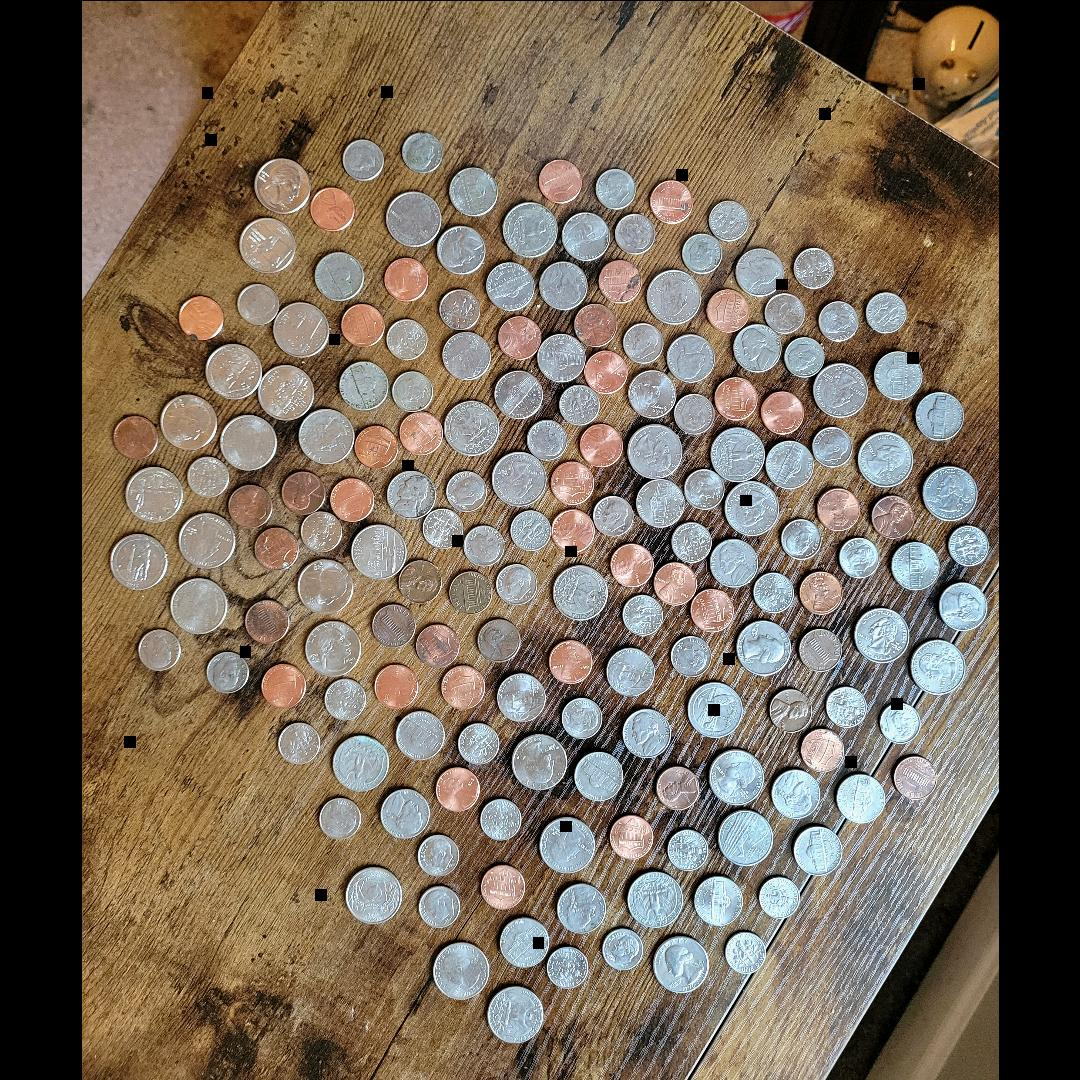Dime: (384, 317, 428, 359), (299, 511, 341, 555), (600, 926, 642, 970), (545, 946, 587, 988), (137, 626, 179, 668), (751, 568, 793, 610), (946, 524, 988, 566), (204, 651, 246, 693), (236, 282, 278, 324), (187, 456, 229, 498), (456, 720, 497, 763), (478, 796, 518, 840), (416, 884, 456, 928), (342, 136, 382, 179), (820, 298, 859, 342), (510, 510, 551, 551), (665, 828, 705, 870), (792, 246, 832, 288), (624, 592, 664, 634), (319, 794, 359, 836), (838, 536, 880, 576), (418, 833, 458, 875), (556, 382, 598, 422), (756, 876, 798, 916), (624, 318, 664, 360), (726, 930, 766, 972), (783, 334, 823, 376), (683, 466, 723, 508), (668, 523, 710, 563), (866, 289, 904, 333), (496, 560, 536, 601), (595, 168, 634, 210), (828, 684, 868, 724), (592, 494, 632, 534), (612, 210, 652, 250), (780, 519, 820, 559), (528, 418, 568, 458), (461, 524, 501, 564), (277, 722, 317, 762), (674, 390, 713, 431), (326, 676, 364, 718), (669, 634, 707, 676), (708, 200, 748, 239), (559, 695, 598, 735), (879, 702, 918, 742), (766, 292, 806, 331), (437, 290, 478, 328), (810, 426, 848, 466), (391, 370, 431, 408), (423, 506, 463, 544), (446, 472, 484, 510), (401, 132, 439, 170), (682, 233, 718, 273)
Nickel: (890, 538, 940, 590), (378, 785, 428, 836), (554, 882, 603, 934), (492, 368, 542, 418), (444, 166, 494, 216), (497, 912, 545, 964), (606, 644, 654, 696), (692, 874, 740, 926), (558, 211, 606, 263), (435, 224, 483, 276), (731, 319, 779, 371), (338, 357, 386, 409), (836, 770, 884, 822), (767, 436, 815, 486), (536, 334, 584, 384), (498, 672, 546, 722), (440, 331, 488, 381), (574, 751, 622, 801), (384, 466, 434, 514), (734, 246, 782, 296), (914, 390, 960, 442), (938, 582, 986, 631), (538, 258, 586, 307), (876, 349, 922, 400), (394, 710, 442, 758), (634, 480, 682, 528), (664, 334, 712, 382), (485, 260, 533, 308), (623, 708, 671, 756), (316, 250, 362, 300), (774, 768, 820, 818), (707, 536, 753, 586), (794, 823, 840, 873), (628, 366, 674, 414), (798, 626, 842, 668)
Penny: (688, 585, 734, 633), (546, 638, 592, 684), (382, 254, 426, 302), (328, 476, 374, 520), (338, 302, 384, 346), (480, 860, 524, 906), (440, 662, 484, 708), (496, 313, 540, 359), (413, 618, 455, 666), (258, 661, 302, 706), (307, 184, 352, 228), (396, 410, 440, 454), (178, 295, 222, 339), (374, 662, 418, 706), (114, 414, 158, 458), (892, 755, 936, 799), (578, 421, 622, 465), (606, 815, 650, 859), (868, 494, 912, 538), (765, 688, 809, 732), (370, 600, 414, 644), (242, 598, 286, 642), (434, 764, 476, 810), (704, 287, 748, 330), (254, 524, 297, 568), (226, 483, 268, 528), (537, 160, 581, 202), (476, 618, 520, 660), (713, 375, 755, 419), (653, 765, 697, 807), (648, 178, 690, 222), (798, 726, 842, 768), (797, 568, 841, 610), (552, 506, 594, 550), (352, 423, 395, 465), (280, 471, 323, 513), (548, 462, 590, 505), (762, 388, 804, 431), (574, 302, 616, 344), (814, 485, 856, 527), (609, 543, 651, 585), (652, 560, 694, 602), (446, 570, 488, 612), (584, 351, 626, 393), (396, 558, 440, 598), (597, 258, 637, 298), (819, 1058, 863, 1080), (871, 1058, 915, 1080), (974, 1058, 998, 1080)
Quarter: (342, 863, 404, 921), (109, 530, 167, 592), (625, 868, 682, 930), (170, 575, 228, 635), (350, 520, 406, 582), (510, 729, 567, 789), (202, 340, 260, 398), (486, 982, 542, 1042), (650, 931, 705, 992), (302, 617, 356, 679), (441, 395, 498, 453), (239, 215, 296, 273), (158, 392, 215, 450), (539, 813, 595, 872), (125, 462, 180, 522), (218, 412, 274, 470), (297, 405, 353, 463), (177, 513, 235, 569), (432, 940, 488, 998), (502, 202, 558, 260), (259, 362, 315, 420), (386, 187, 440, 247), (812, 360, 866, 420), (909, 637, 964, 695), (271, 300, 327, 356), (492, 448, 548, 504), (736, 620, 790, 678), (716, 807, 770, 865), (332, 734, 386, 792), (298, 560, 355, 614), (859, 429, 913, 486), (853, 602, 905, 661), (724, 480, 778, 536), (688, 682, 742, 738), (646, 269, 700, 325), (250, 158, 306, 212), (707, 747, 761, 803), (627, 422, 681, 478), (552, 564, 604, 622), (708, 426, 763, 480), (922, 463, 974, 519)
